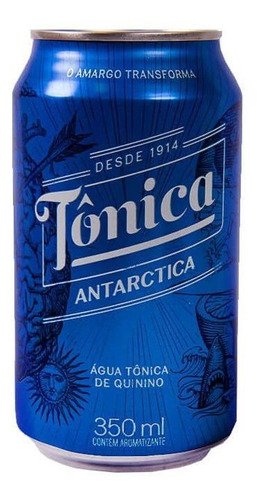tonica: (5, 23, 240, 472)
